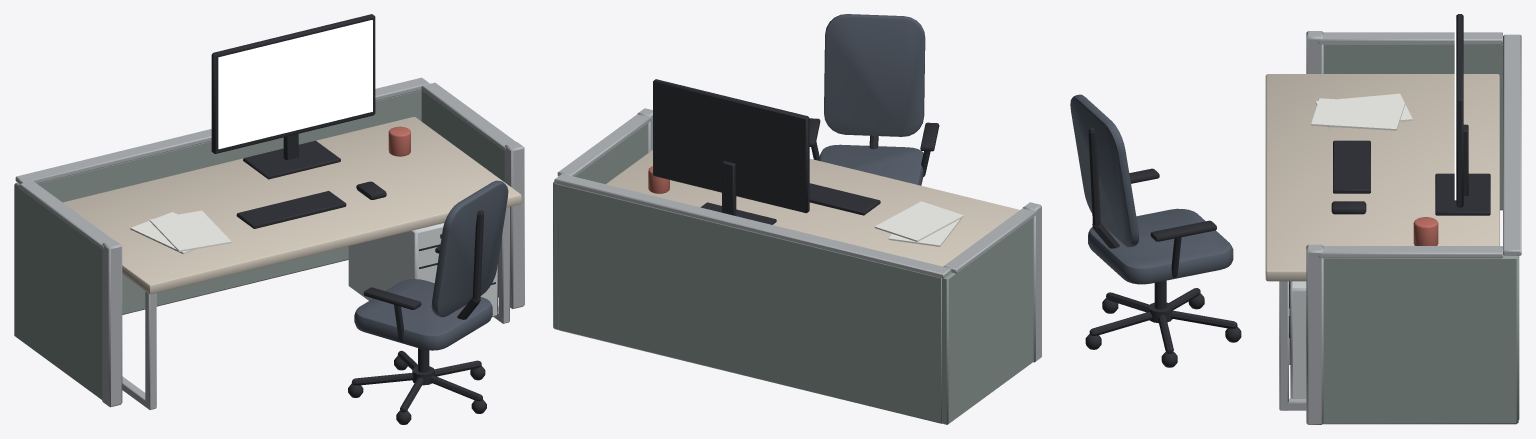
The model's file is office_desk_real_set.fbx.
3 renders of one model, left to right at view 1: azimuth 30°, elevation 25°; view 2: azimuth 150°, elevation 25°; view 3: azimuth 270°, elevation 25°, orthographic. The views are drawn at different scales.
Visible parts, largest first — view 1: RDesk_Top, RDesk_Partition, RMonitor_Screen, RDesk_Trim, RChair_Back, RChair_Seat, RMonitor_Frame, RDrawer_Body, RChair_Frame, RDesk_Frame, RDesk_Paper, RDesk_Keyboard (+2 smaller); view 2: RDesk_Partition, RMonitor_Frame, RDesk_Top, RChair_Back, RDesk_Trim, RChair_Seat, RDesk_Paper, RDesk_Keyboard, RChair_Frame; view 3: RDesk_Partition, RDesk_Top, RDesk_Trim, RChair_Seat, RChair_Back, RChair_Frame, RMonitor_Frame, RDesk_Paper, RDesk_Keyboard, RDrawer_Body, RDesk_Frame, RChair_Wheels (+2 smaller).
Part boxes in pixels (x1,y1,x2,y2): RDesk_Top: (63,117,521,294); RDesk_Partition: (14,90,504,399); RMonitor_Screen: (218,20,372,149); RDesk_Trim: (15,77,524,407); RChair_Back: (431,180,508,317); RChair_Seat: (354,279,492,350); RMonitor_Frame: (211,14,375,179); RDrawer_Body: (348,223,497,317); RChair_Frame: (351,210,483,412); RDesk_Frame: (122,207,509,409); RDesk_Paper: (130,210,231,254); RDesk_Keyboard: (236,181,386,228); RDesk_Partition: (553,123,1033,424); RMonitor_Frame: (653,79,809,224); RDesk_Top: (606,150,1019,266); RChair_Back: (824,14,925,136); RDesk_Trim: (554,108,1041,362); RChair_Seat: (819,144,923,185); RDesk_Paper: (874,201,963,246); RDesk_Keyboard: (809,183,880,215); RChair_Frame: (809,118,939,176); RDesk_Partition: (1323,44,1519,424); RDesk_Top: (1265,74,1499,281); RDesk_Trim: (1306,31,1521,424); RChair_Seat: (1088,208,1233,284); RChair_Back: (1070,94,1139,247); RChair_Frame: (1088,127,1237,353); RMonitor_Frame: (1435,14,1490,215); RDesk_Paper: (1311,93,1412,130); RDesk_Keyboard: (1331,140,1370,214); RDrawer_Body: (1290,281,1306,398); RDesk_Frame: (1279,281,1306,410); RChair_Wheels: (1085,293,1241,367).
Bounding box in the file's own units: 8.5 × 5.07 × 7.31.
